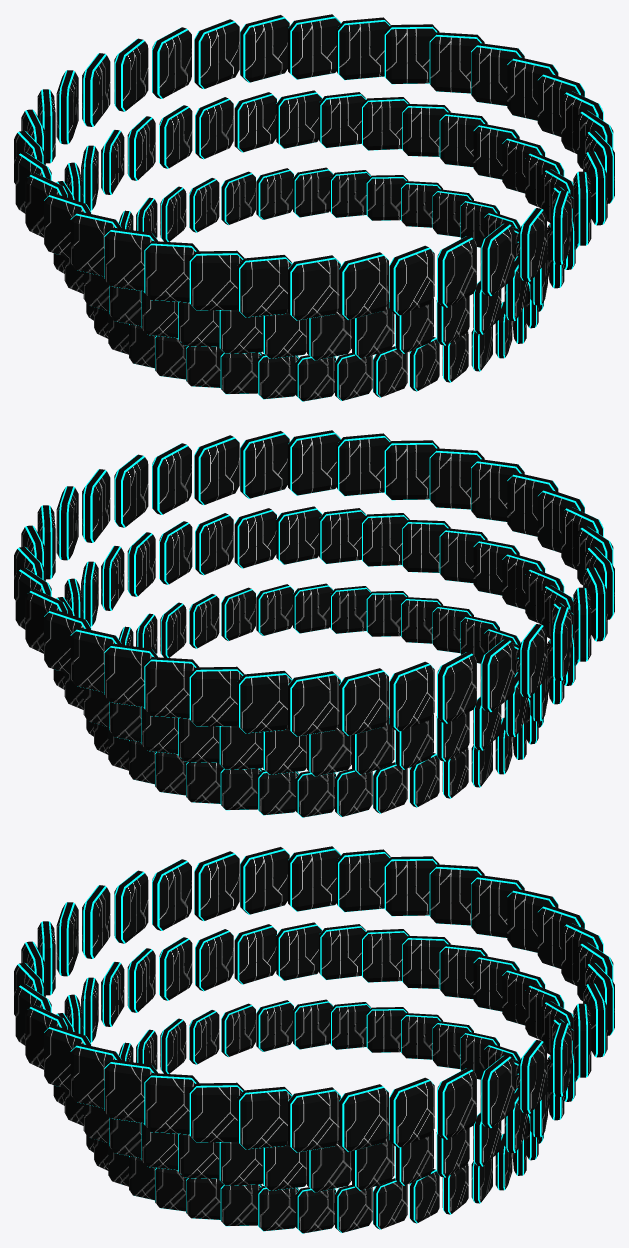
Rendered from SpinningWheels.fbx.
3 renders of one model, top to bottom at view 1: azimuth 30°, elevation 25°; view 2: azimuth 150°, elevation 25°; view 3: azimuth 270°, elevation 25°, orthographic.
Visible parts, largest first — view 1: locator1, locator3, locator2; view 2: locator1, locator3, locator2; view 3: locator1, locator3, locator2.
Part boxes in pixels (<box>): locator1: <box>14,14,614,320</box>; locator3: <box>53,90,578,360</box>; locator2: <box>86,167,543,401</box>; locator1: <box>14,430,614,736</box>; locator3: <box>53,506,578,776</box>; locator2: <box>86,583,543,817</box>; locator1: <box>14,846,614,1152</box>; locator3: <box>53,922,578,1192</box>; locator2: <box>86,999,543,1233</box>.
Bounding box in the file's own units: 21.98 × 6.75 × 21.98.
